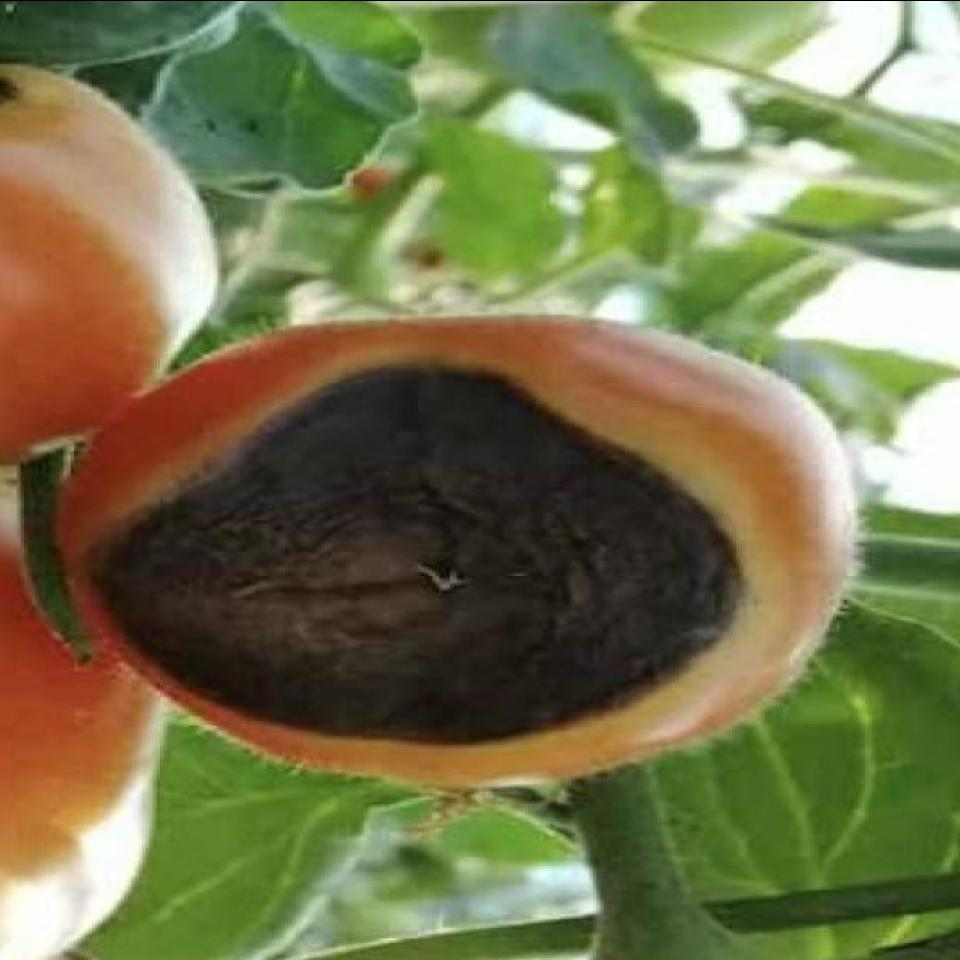Blossom_end_rot: (84, 355, 758, 745)
